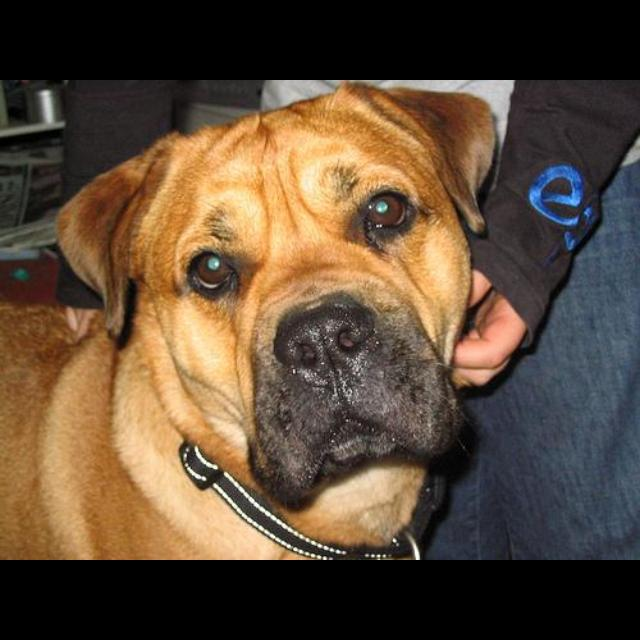bullmastiff: (2, 83, 499, 560)
